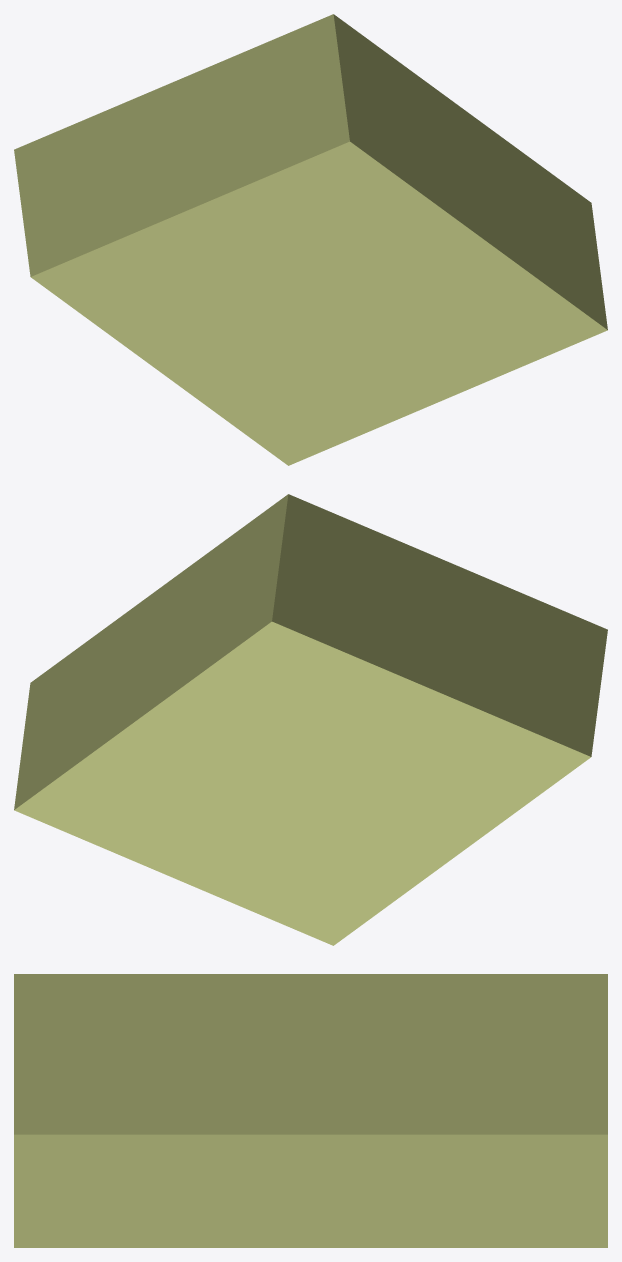
The picture shows the model from 3 angles, top to bottom: view 1: azimuth 30°, elevation 25°; view 2: azimuth 150°, elevation 25°; view 3: azimuth 270°, elevation 25°; orthographic projection. The views are drawn at different scales.
Visible parts, largest first — view 1: 0_2_2_0_3_0_3_1_1_1; view 2: 0_2_2_0_3_0_3_1_1_1; view 3: 0_2_2_0_3_0_3_1_1_1.
Boxes of the visible parts, x1,y1,x2,y2 form: 0_2_2_0_3_0_3_1_1_1: (14, 14, 607, 465); 0_2_2_0_3_0_3_1_1_1: (14, 494, 607, 945); 0_2_2_0_3_0_3_1_1_1: (14, 974, 607, 1247).
Bounding box in the file's own units: 4.51 × 2.43 × 6.
